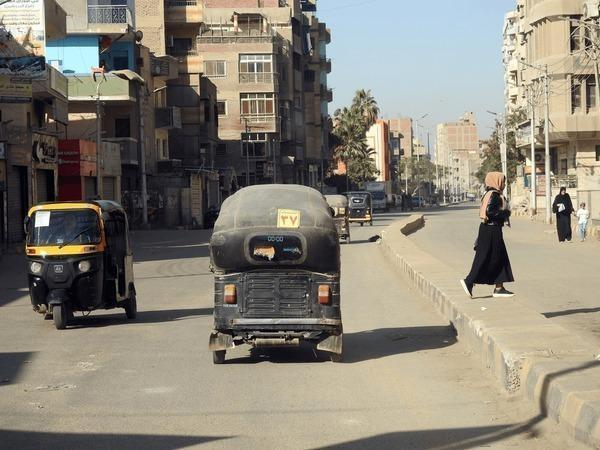keke: (201, 176, 353, 362), (18, 196, 140, 332)
